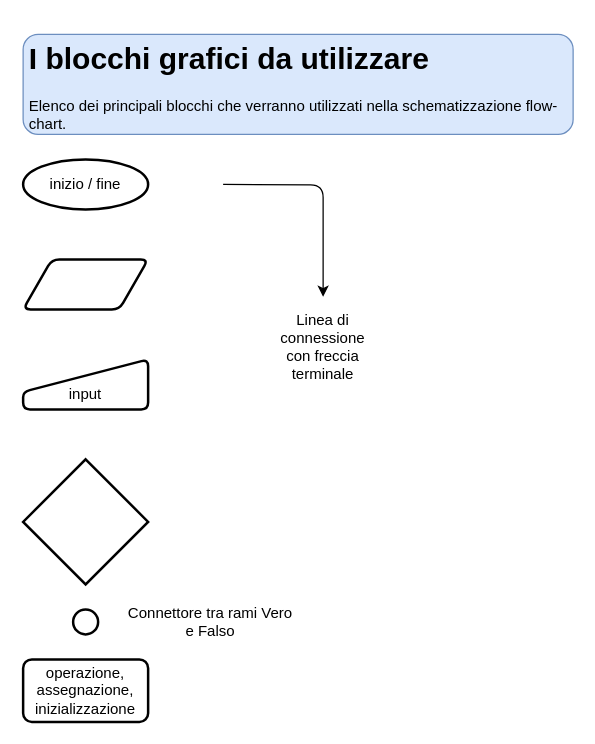
This 595x744 diagram has some shape labels left out. The shapes that lost their labels are listed below. From the top down, each one's centre as x and y in pixels, then its label:
At (x=85, y=284): "output".
At (x=85, y=521): "decisione / domanda".
